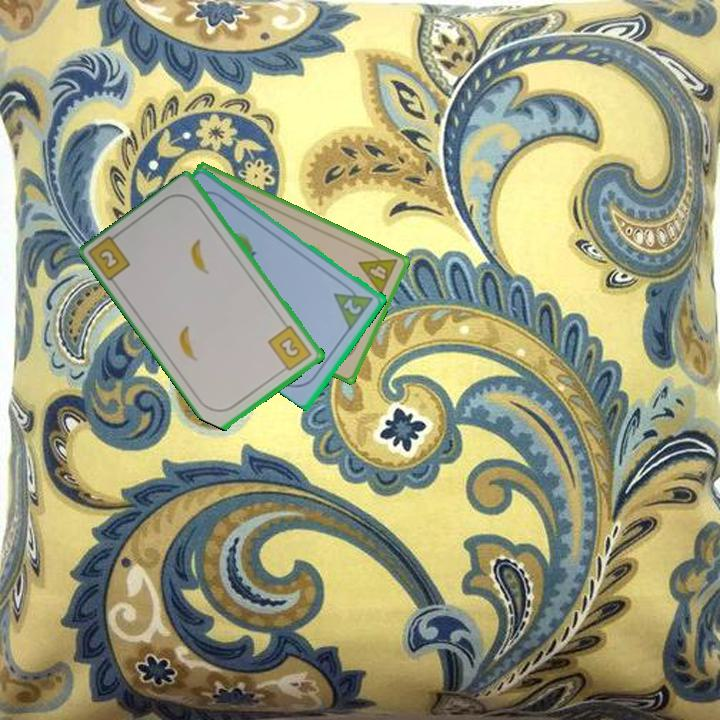2b: (265, 322, 315, 376), (95, 245, 123, 273)
2p: (340, 295, 365, 318)
4p: (355, 246, 400, 298)
